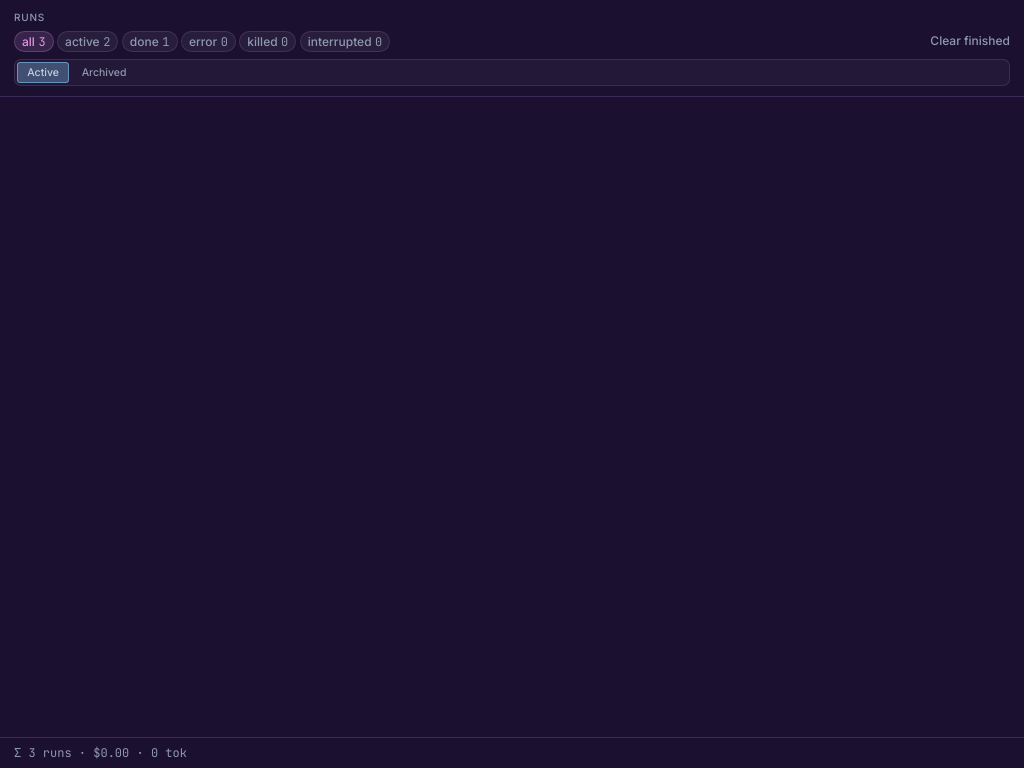
Test: RunList active filter includes parked runs (F-055) › counts an awaiting_plan run under "active" and shows it when filtered (P2 E-02)
The width and height of the screenshot is (1024, 768).
Click the button with test id "run-filter-active".
click(88, 41)  # box x1=57 y1=30 x2=118 y2=52
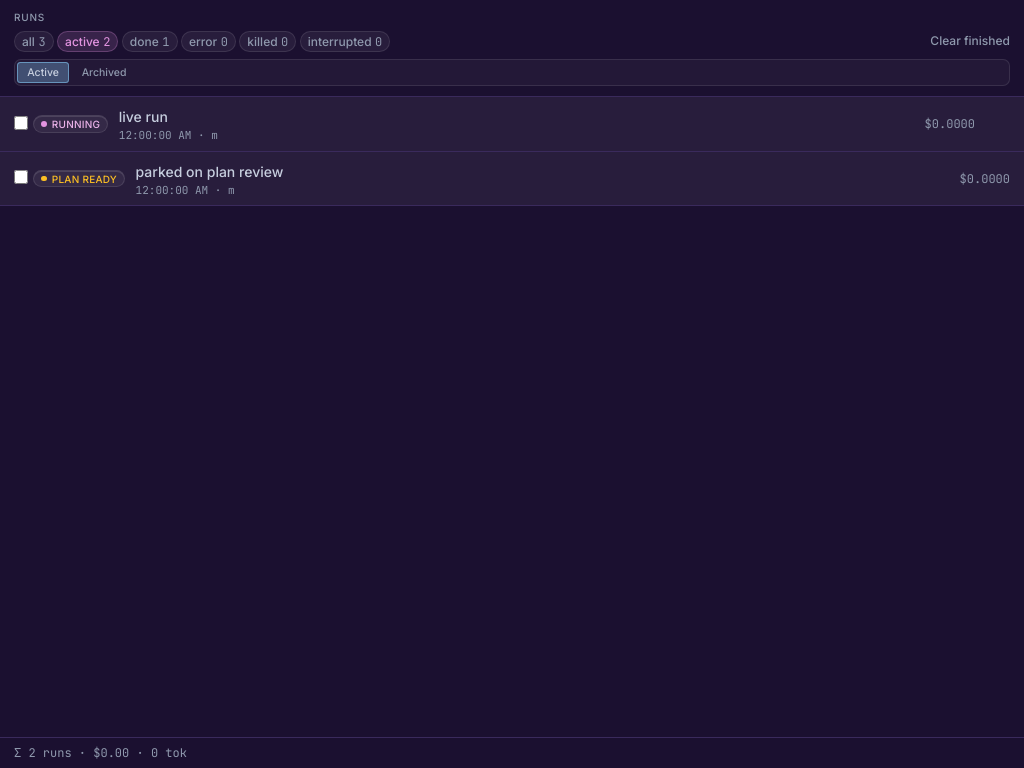
Now the text "parked on plan review" is shown, box x1=136 y1=162 x2=283 y2=180
Now the text "live run" is shown, box x1=119 y1=108 x2=168 y2=125
